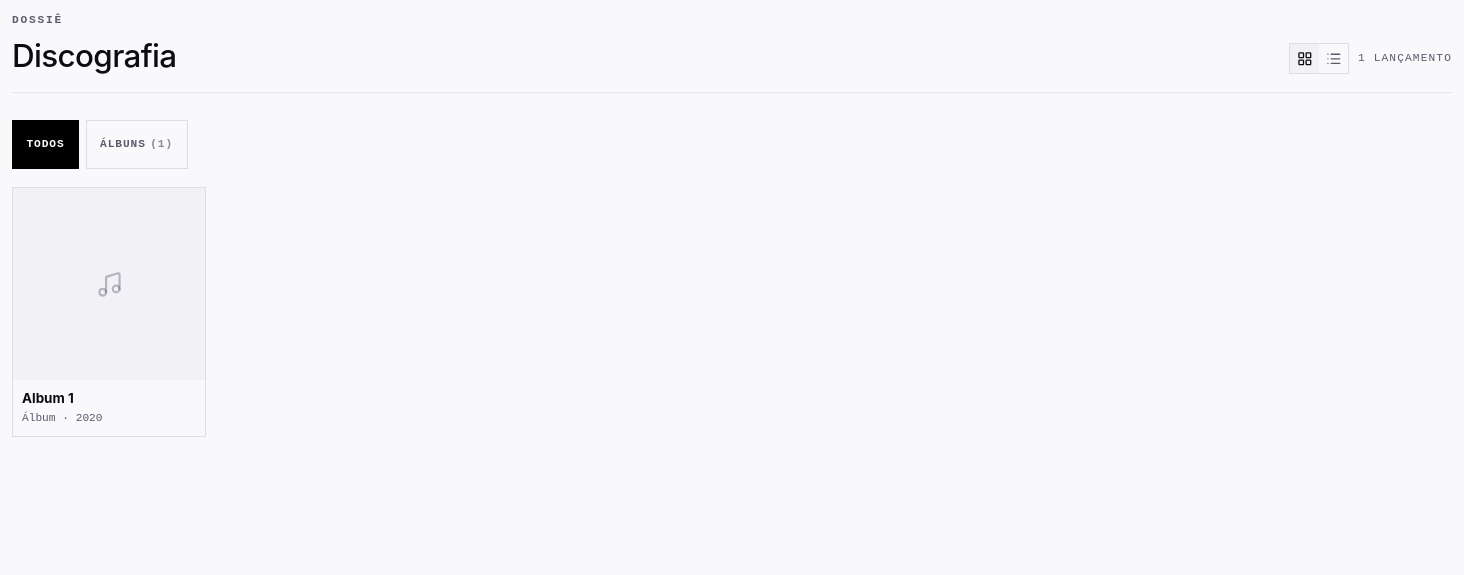
Test: GroupDiscography › expandir mostra todas as faixas; recolher volta a truncar
The width and height of the screenshot is (1464, 575).
What coordinates should you click on to do the following:
click the button titled "Lista"
I would click on:
 (1333, 58)
Its box is [1319,44,1348,73].
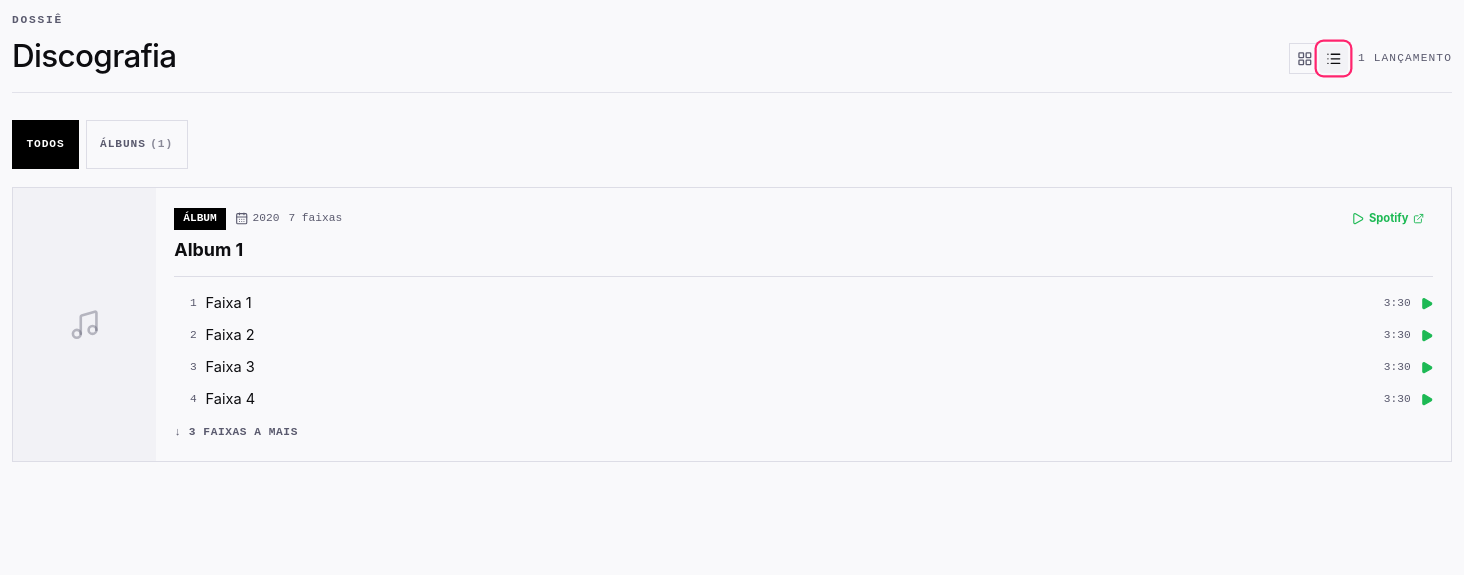
What coordinates should you click on to do the following:
click the button "↓ 3 faixas a mais"
I would click on:
 (236, 433)
Its box is [174,424,298,441].
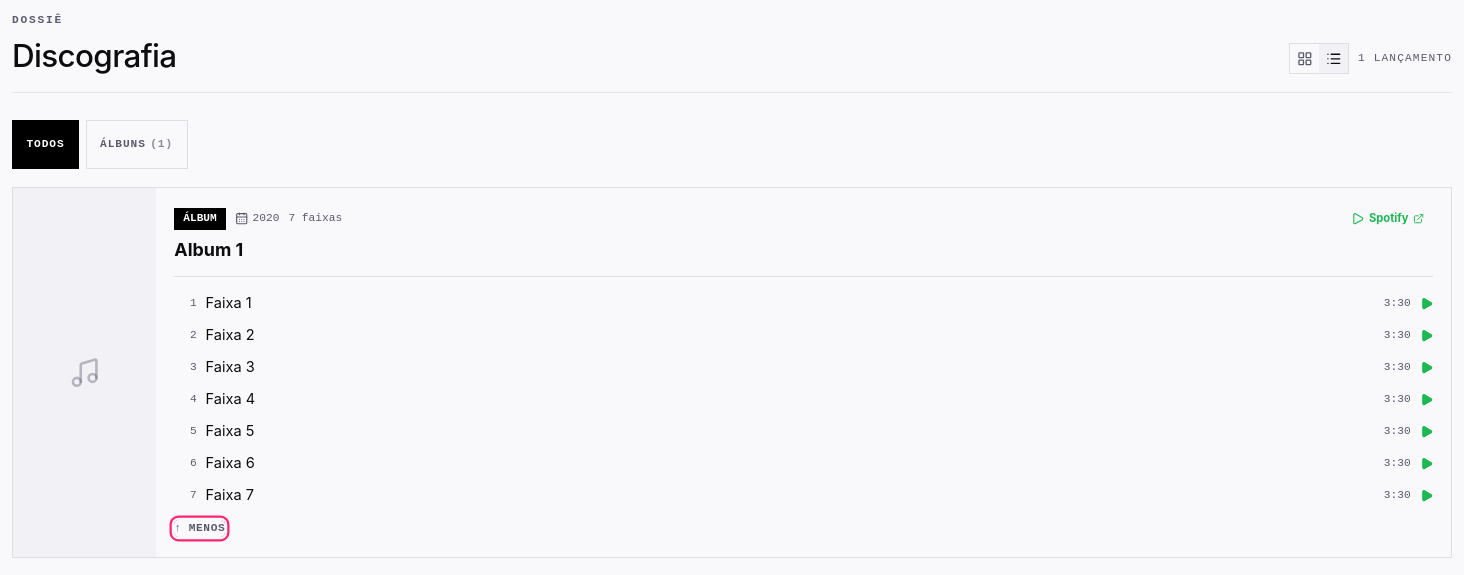
Expected: the text "Faixa 7" is shown, [206,486,254,504]
Expected: the button "↑ menos" is shown
What coordinates should you click on to do the following:
click the button "↑ menos"
I would click on:
 (200, 529)
Its box is [174,520,225,537].
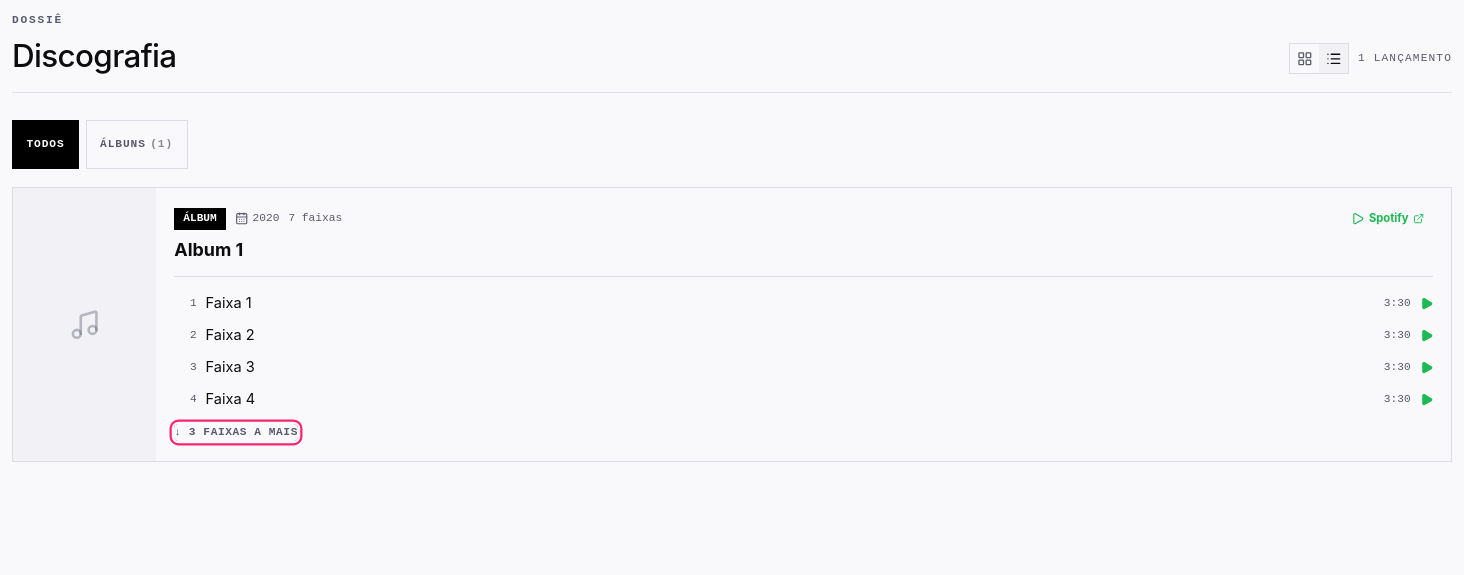
Expected: the text "Faixa 7" is gone
